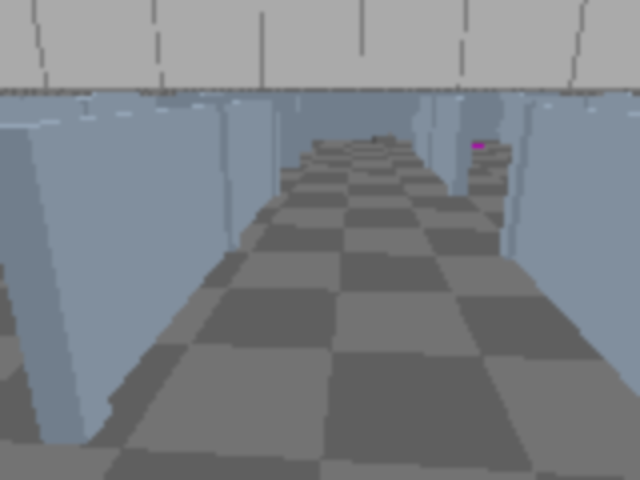obstacle: (370, 134, 397, 146)
